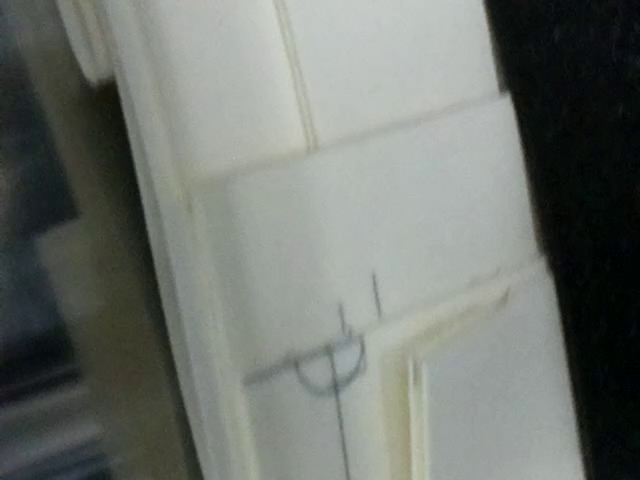not_sure: (242, 298, 377, 396)
